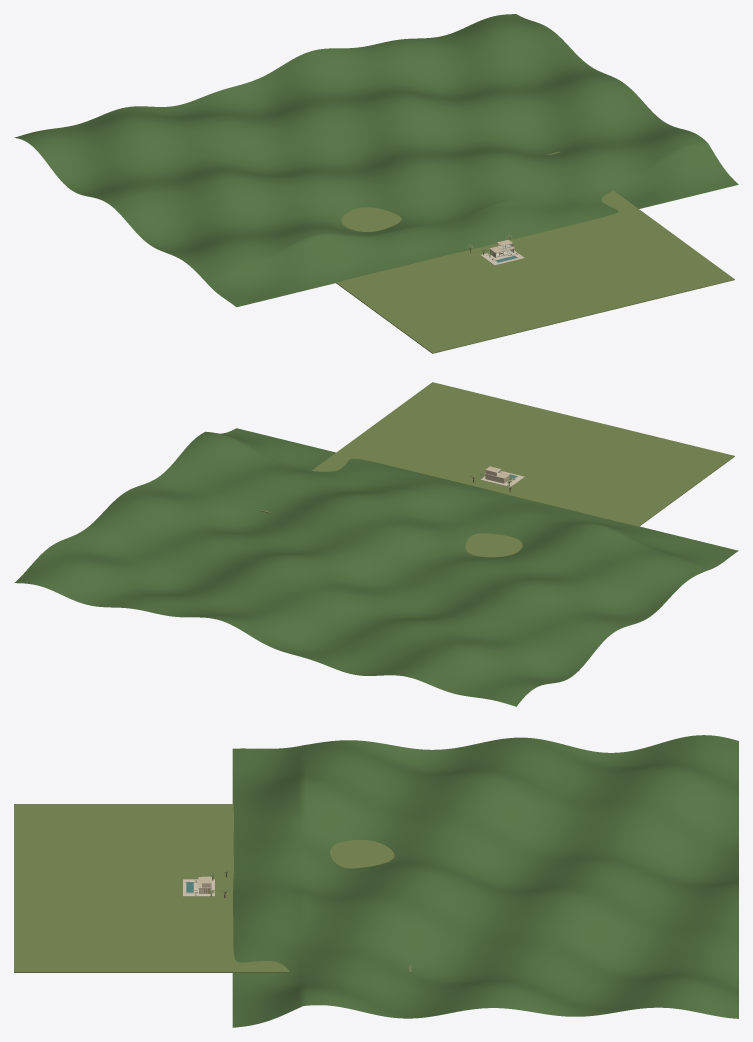
The model's file is haven-scenery.glb.
3 renders of one model, top to bottom at view 1: azimuth 30°, elevation 25°; view 2: azimuth 150°, elevation 25°; view 3: azimuth 270°, elevation 25°, orthographic. The views are drawn at different scales.
Visible parts, largest first — view 1: Rolling countryside, Landscape ground; view 2: Rolling countryside, Landscape ground; view 3: Rolling countryside, Landscape ground.
Boxes of the visible parts, x1,y1,x2,y2 form: Rolling countryside: (14, 14, 738, 307); Landscape ground: (336, 151, 734, 353); Rolling countryside: (14, 428, 738, 706); Landscape ground: (258, 382, 734, 557); Rolling countryside: (232, 735, 738, 1027); Landscape ground: (14, 804, 411, 972).
Bounding box in the file's own units: 432 × 21.91 × 474.
